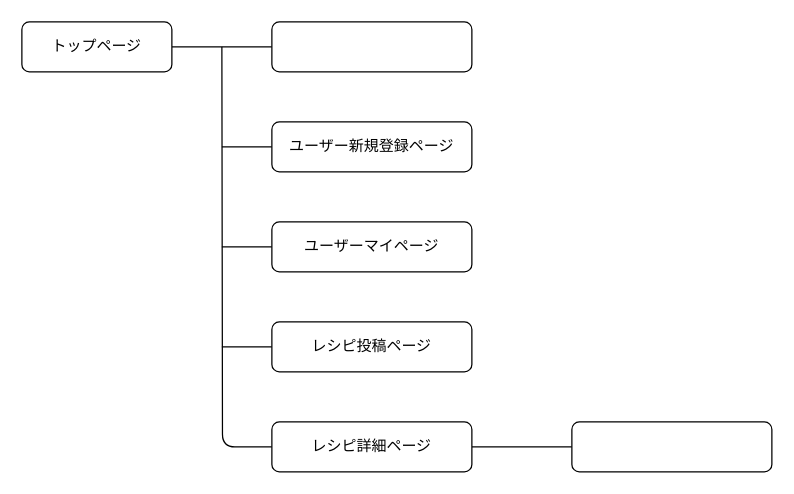
The diagram is 794 pixels wide and 494 high, and some of its shapes have lost their labels. The centre of each missing label's shape, as x and y in pixels:
ユーザーログインページ: the point at 371,46
レシピ編集ページ: the point at 671,446
